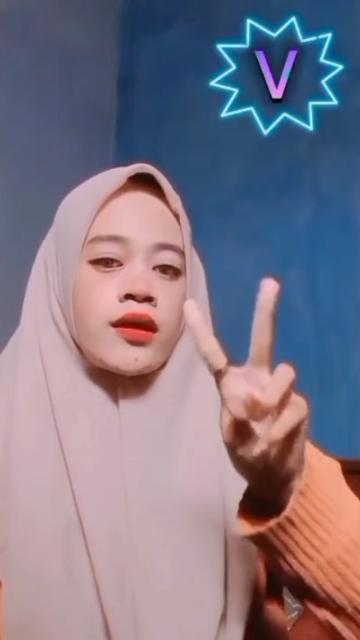V: (176, 284, 322, 492)
